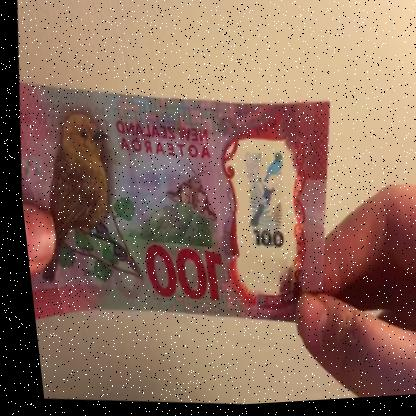100B: (224, 143, 293, 282)
